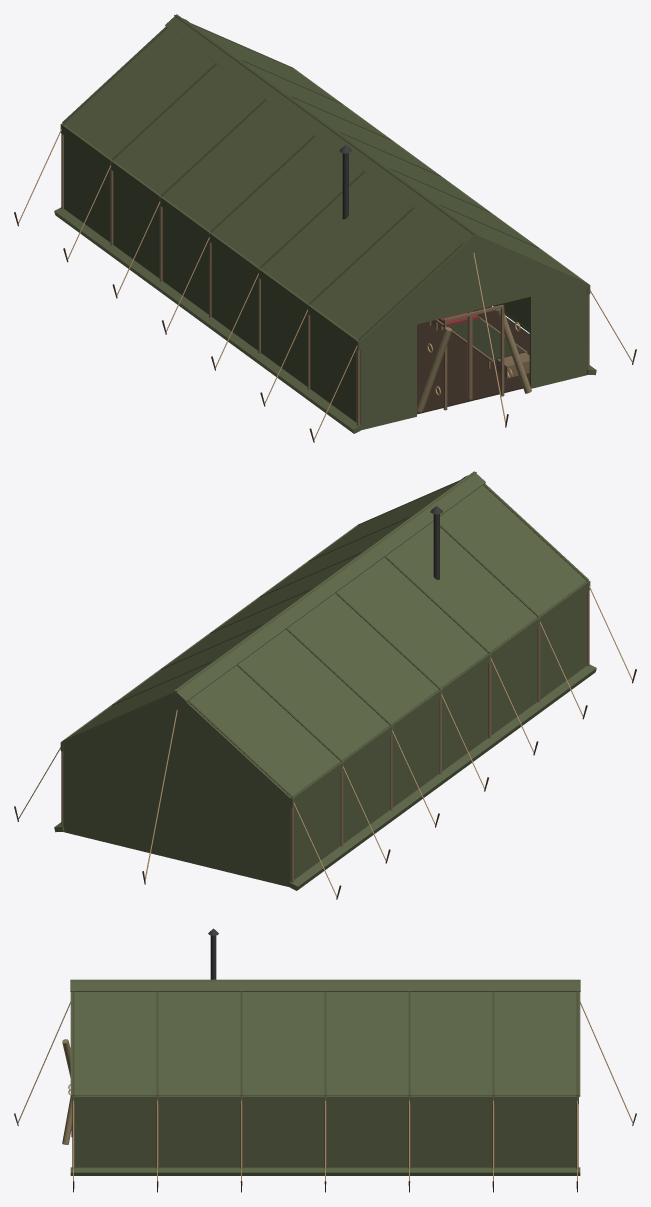
Rendered from barracks-tent.glb.
3 renders of one model, top to bottom at view 1: azimuth 30°, elevation 25°; view 2: azimuth 150°, elevation 25°; view 3: azimuth 270°, elevation 25°, orthographic. The views are drawn at different scales.
Parts seen in each view (by area): view 1: Mesh_RoofL, Mesh_SideWallL, Mesh_FrontWall, Mesh_RoofR, Mesh_RidgeCapL, Mesh_DirtFloor, Mesh_MudFlapL, Mesh_EaveOverhangL, Mesh_RidgeCapR, Mesh_CotCanvas2, Mesh_RolledFlapL, Mesh_RolledFlapR (+1 smaller); view 2: Mesh_RoofL, Mesh_BackWall, Mesh_SideWallL, Mesh_RoofR, Mesh_RidgeCapL, Mesh_MudFlapL, Mesh_EaveOverhangL, Mesh_RidgeCapR, Mesh_EaveOverhangR; view 3: Mesh_RoofR, Mesh_SideWallR, Mesh_RidgeCapR, Mesh_MudFlapR, Mesh_EaveOverhangR, Mesh_RidgeCapL.
Part boxes in pixels (left/top/right/bottom): Mesh_RoofL: left=62, top=26, right=474, bottom=342; Mesh_SideWallL: left=64, top=135, right=356, bottom=422; Mesh_FrontWall: left=360, top=238, right=587, bottom=429; Mesh_RoofR: left=195, top=26, right=588, bottom=286; Mesh_RidgeCapL: left=165, top=14, right=476, bottom=244; Mesh_DirtFloor: left=417, top=306, right=529, bottom=414; Mesh_MudFlapL: left=54, top=207, right=362, bottom=433; Mesh_EaveOverhangL: left=60, top=123, right=360, bottom=350; Mesh_RidgeCapR: left=174, top=15, right=485, bottom=240; Mesh_CotCanvas2: left=438, top=318, right=525, bottom=359; Mesh_RolledFlapL: left=417, top=327, right=452, bottom=412; Mesh_RolledFlapR: left=496, top=309, right=531, bottom=393; Mesh_RoofL: left=176, top=483, right=588, bottom=799; Mesh_BackWall: left=63, top=695, right=290, bottom=886; Mesh_SideWallL: left=294, top=592, right=586, bottom=879; Mesh_RoofR: left=62, top=483, right=455, bottom=743; Mesh_RidgeCapL: left=174, top=471, right=485, bottom=701; Mesh_MudFlapL: left=288, top=664, right=596, bottom=890; Mesh_EaveOverhangL: left=290, top=580, right=590, bottom=807; Mesh_RidgeCapR: left=165, top=472, right=476, bottom=697; Mesh_EaveOverhangR: left=60, top=524, right=358, bottom=751; Mesh_RoofR: left=70, top=992, right=580, bottom=1096; Mesh_SideWallR: left=75, top=1104, right=575, bottom=1167; Mesh_RidgeCapR: left=70, top=979, right=580, bottom=991; Mesh_MudFlapR: left=70, top=1167, right=580, bottom=1175; Mesh_EaveOverhangR: left=72, top=1096, right=578, bottom=1104; Mesh_RidgeCapL: left=70, top=980, right=580, bottom=981.
Bounding box in the file's own units: 5.75 × 3.52 × 11.13.
